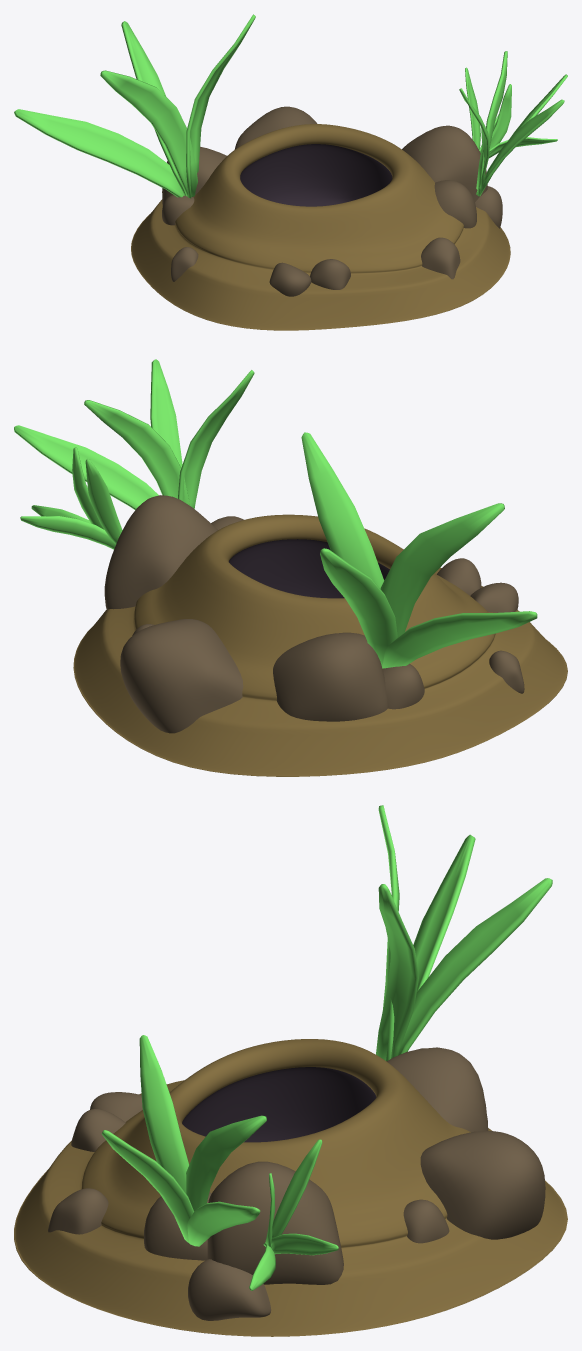
The model's file is HoleInTheGround.glb.
The picture shows the model from 3 angles, top to bottom: view 1: azimuth 30°, elevation 25°; view 2: azimuth 150°, elevation 25°; view 3: azimuth 270°, elevation 25°; orthographic projection. The views are drawn at different scales.
Parts seen in each view (by area): view 1: Cylinder, Plane, Plane.001, Plane.002; view 2: Cylinder, Plane, Plane.001, Plane.002; view 3: Cylinder, Plane, Plane.001, Plane.002.
Part boxes in pixels (left/top/right/bottom): Cylinder: left=131, top=106, right=510, bottom=330; Plane: left=14, top=14, right=255, bottom=198; Plane.001: left=459, top=51, right=567, bottom=196; Plane.002: left=465, top=67, right=557, bottom=158; Cylinder: left=73, top=495, right=567, bottom=776; Plane: left=301, top=432, right=537, bottom=668; Plane.001: left=14, top=359, right=254, bottom=509; Plane.002: left=20, top=447, right=122, bottom=549; Cylinder: left=14, top=1039, right=567, bottom=1336; Plane: left=376, top=805, right=552, bottom=1061; Plane.001: left=101, top=1035, right=266, bottom=1246; Plane.002: left=249, top=1139, right=338, bottom=1290.
Bounding box in the file's own units: 5.2 × 2.53 × 3.6.
